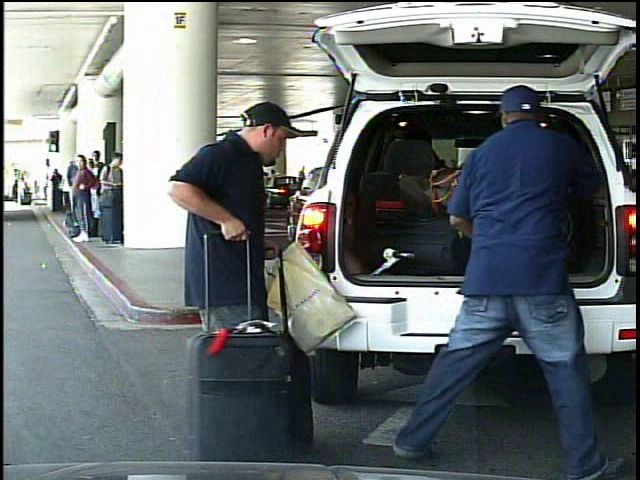person: (398, 77, 612, 479), (148, 96, 291, 462), (295, 163, 308, 198), (17, 174, 28, 205)
